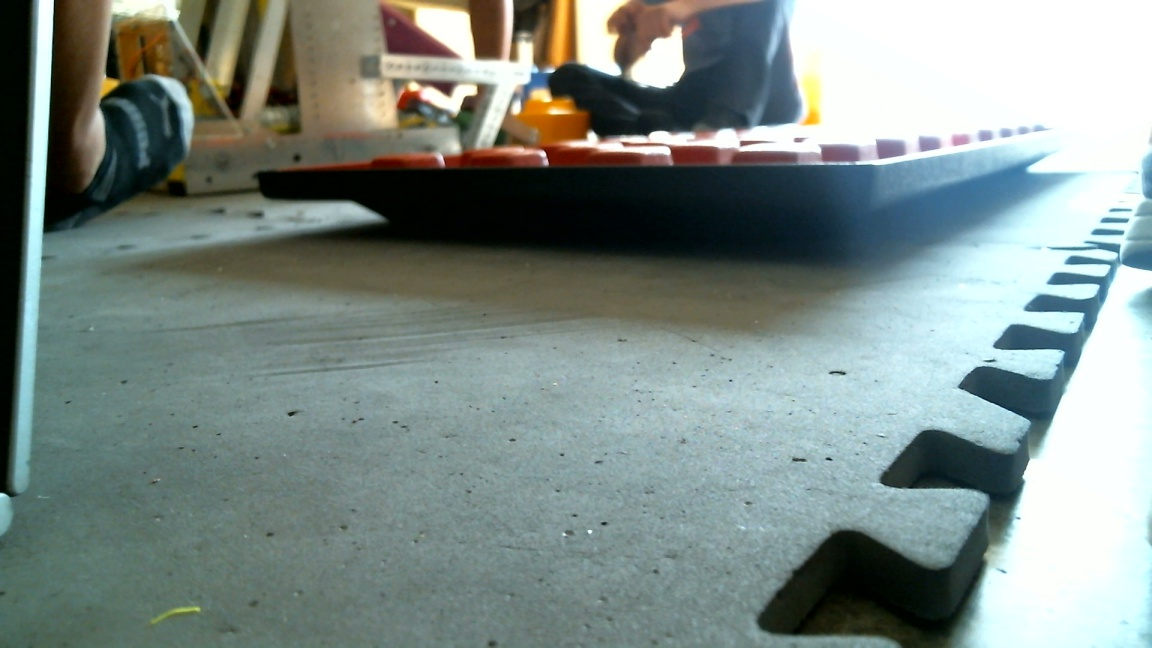red_foundation: (250, 121, 1060, 234)
